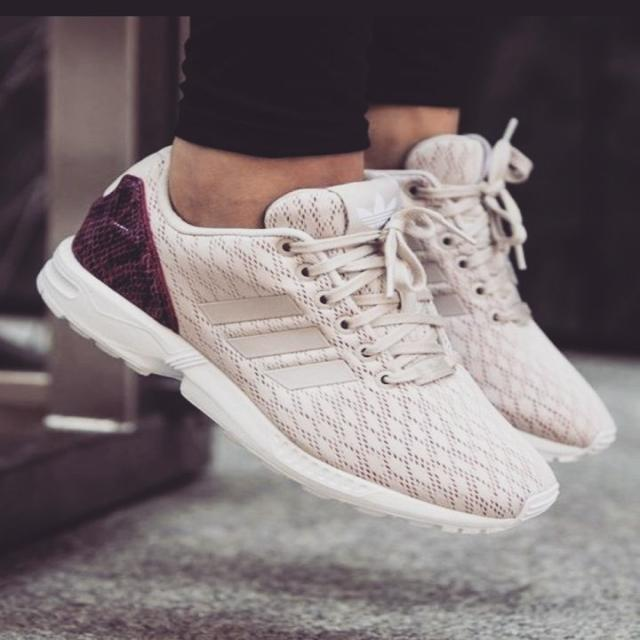shoe: (32, 122, 572, 555), (350, 121, 632, 486)
